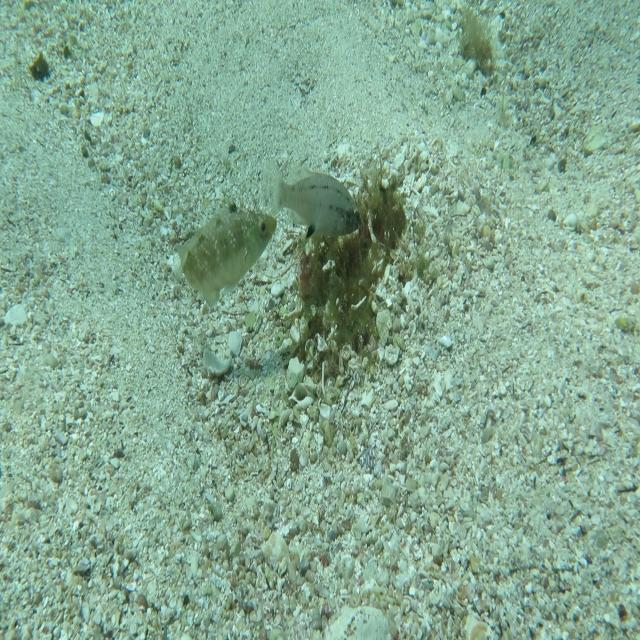GB: (174, 197, 278, 314)
core_nest: (338, 195, 397, 234)
female: (260, 155, 365, 243)
nest: (289, 156, 417, 392)
